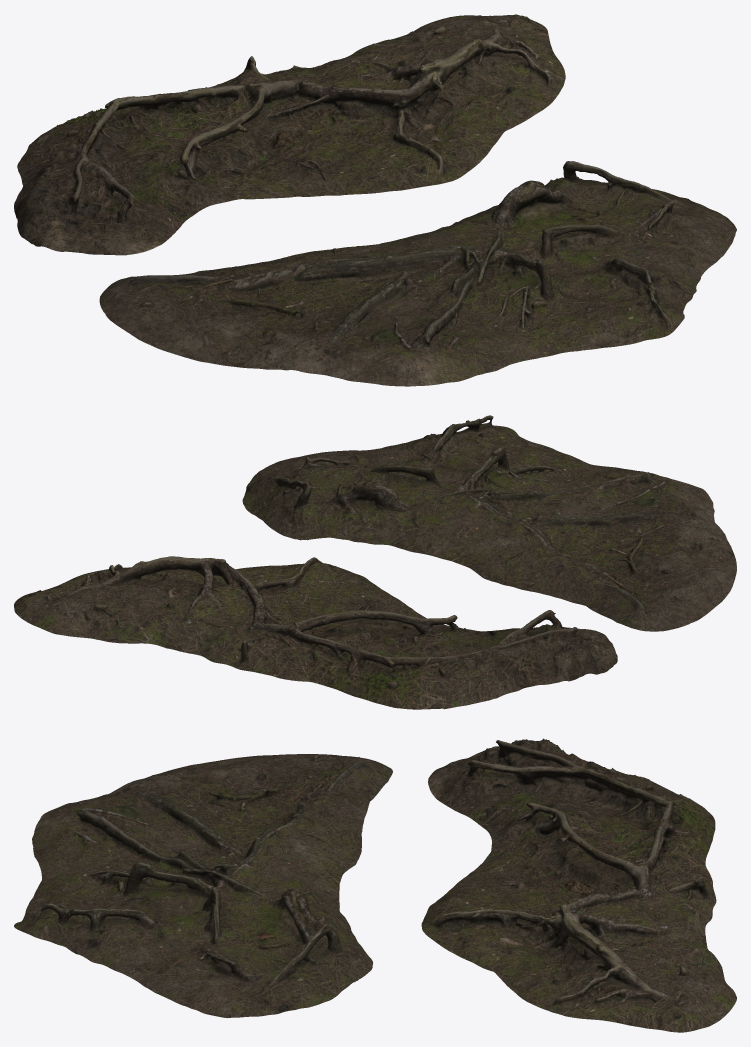
Rendered from pine-roots.glb.
3 renders of one model, top to bottom at view 1: azimuth 30°, elevation 25°; view 2: azimuth 150°, elevation 25°; view 3: azimuth 270°, elevation 25°, orthographic. The views are drawn at different scales.
Parts seen in each view (by area): view 1: pine_roots_b, pine_roots_a; view 2: pine_roots_b, pine_roots_a; view 3: pine_roots_b, pine_roots_a.
Part boxes in pixels (box(x1,y1,x2,y2)): pine_roots_b: box(99, 161, 736, 386); pine_roots_a: box(14, 14, 565, 255); pine_roots_b: box(242, 415, 736, 631); pine_roots_a: box(14, 556, 617, 709); pine_roots_b: box(14, 754, 392, 1018); pine_roots_a: box(421, 738, 736, 1032).
Bounding box in the file's own units: 1.77 × 0.1548 × 1.89.
2 materials, 2 textured.
